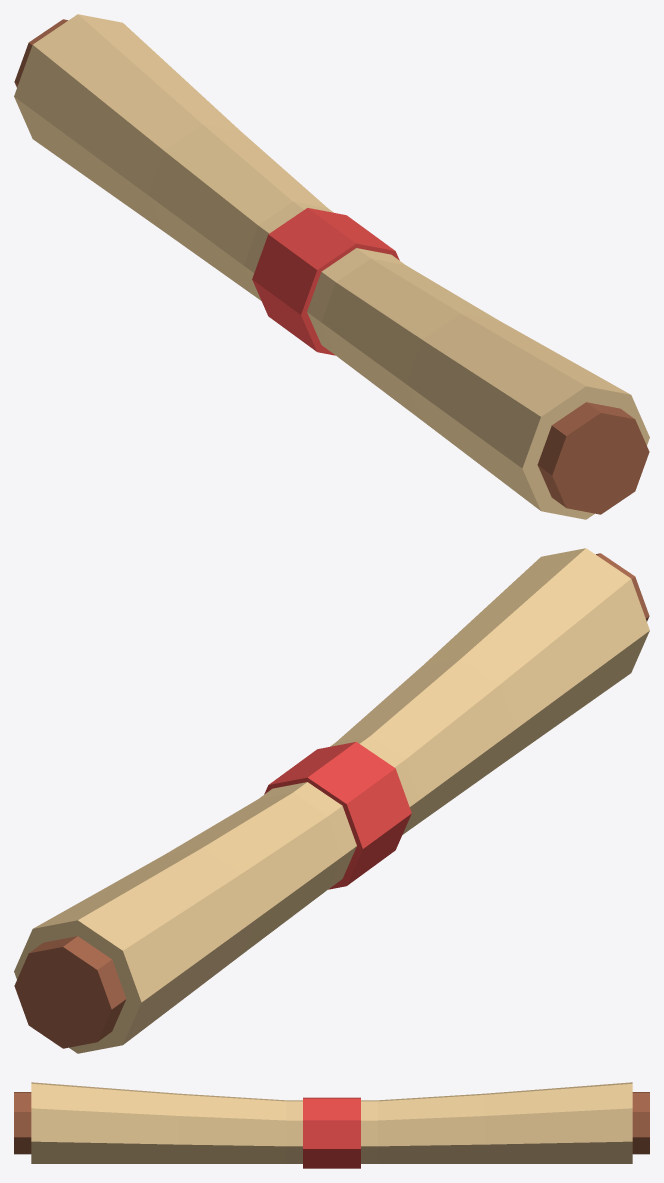
The model's file is Parchemin_F.fbx.
3 views of the same model, one above another, from view 1: azimuth 30°, elevation 25°; view 2: azimuth 150°, elevation 25°; view 3: azimuth 270°, elevation 25° (orthographic). The views are drawn at different scales.
Visible parts, largest first — view 1: PARCHEMINF.002; view 2: PARCHEMINF.002; view 3: PARCHEMINF.002.
Part boxes in pixels (bbox=[...]): PARCHEMINF.002: bbox=[14, 14, 649, 519]; PARCHEMINF.002: bbox=[14, 548, 649, 1053]; PARCHEMINF.002: bbox=[14, 1082, 649, 1168].
Size of the model in its own units: 6.98 by 7.4 by 50.96.
